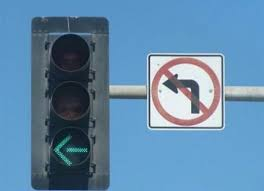No_left_turn: (151, 57, 221, 126)
